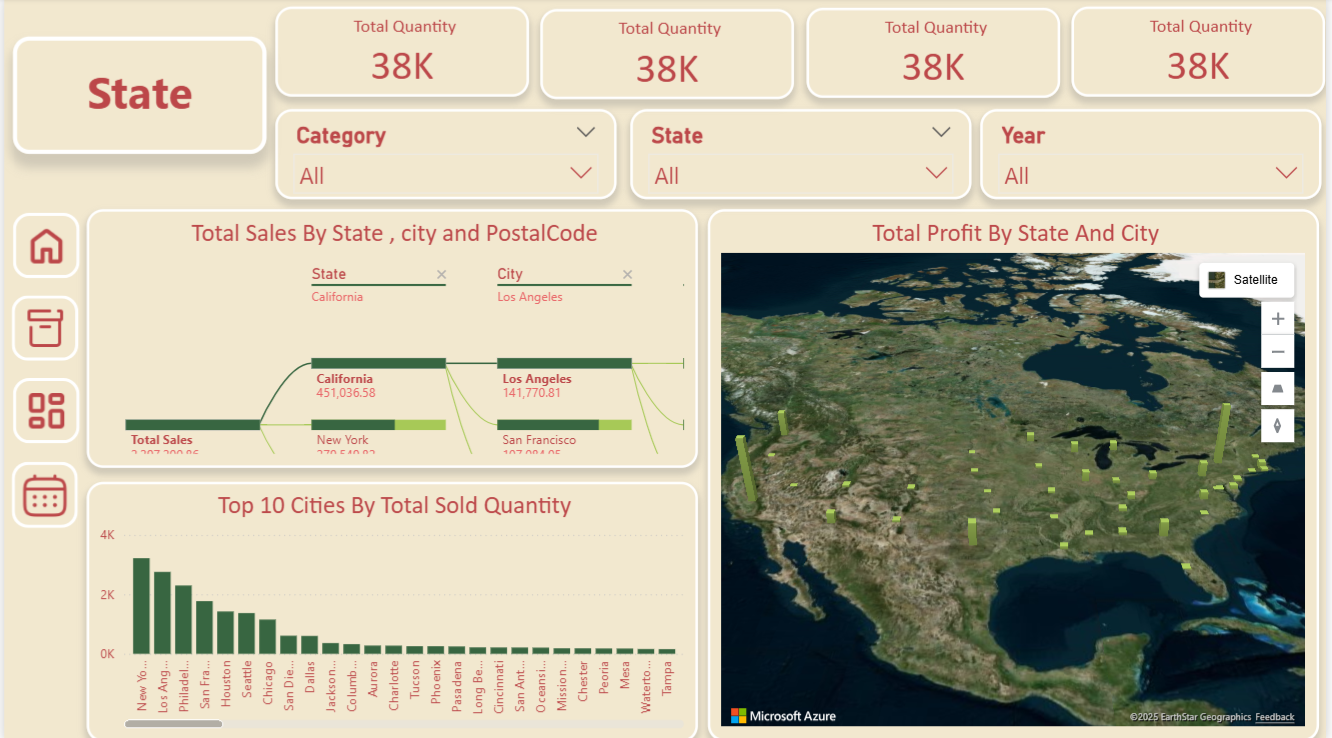

The dashboard page shown, as its layout file describes it:
{"tool":"powerbi","page":{"name":"State","canvas":[1280,720],"ordinal":2},"visuals":[{"type":"actionButton","box":[7.9,448.6,64,64],"z":0},{"type":"actionButton","box":[8.2,208,64.5,63.1],"z":1000},{"type":"actionButton","box":[6.9,288.2,64.5,63.1],"z":2000},{"type":"actionButton","box":[8.2,368.4,64.5,63.1],"z":3000},{"type":"textbox","box":[8.5,37.5,245.7,113.8],"z":4000},{"type":"card","title":"Total Quantity","fields":{"Values":["Daxmeasures.T_quantity"]},"box":[262.7,8.2,245.7,87.2],"z":5000},{"type":"card","title":"Total Quantity","fields":{"Values":["Daxmeasures.T_quantity"]},"box":[519.7,11.4,245.7,87.2],"z":6000},{"type":"card","title":"Total Quantity","fields":{"Values":["Daxmeasures.T_quantity"]},"box":[776.7,9.8,245.7,87.2],"z":7000},{"type":"card","title":"Total Quantity","fields":{"Values":["Daxmeasures.T_quantity"]},"box":[1033.8,8.2,245.7,87.2],"z":8000},{"type":"slicer","title":"Total Quantity","fields":{"Values":["ProductDim.Category"]},"box":[262.7,107.7,330,87.2],"z":9000},{"type":"slicer","title":"Total Quantity","fields":{"Values":["CustomerDim.State"]},"box":[605.9,107.7,330.5,87.2],"z":10000},{"type":"slicer","title":"Total Quantity","fields":{"Values":["Sales.Ship Date.Variation.Date Hierarchy.Year"]},"box":[945.4,107.7,330.5,87.2],"z":11000},{"type":"decompositionTreeVisual","title":"Total Sales By State , city and PostalCode","fields":{"ExplainBy":["CustomerDim.State","CustomerDim.City","CustomerDim.Postal Code"],"Analyze":["Daxmeasures.Total Sales"]},"box":[80,205,591.7,250],"z":12000},{"type":"azureMap","title":"Total Profit By State And City","fields":{"Size":["Daxmeasures.Total Profit"],"Category":["CustomerDim.State"]},"box":[681.7,205,591.7,515],"z":13000},{"type":"clusteredColumnChart","title":"Top 10 Cities By Total Sold Quantity","fields":{"Category":["CustomerDim.City"],"Y":["Daxmeasures.Total Quantity"]},"box":[80,468.3,591.7,251.7],"z":14000}]}

Visuals, with their boxes in screenshot pixels (x1, y1, x2, y2), scaled from the page's 1280x720 canvas onto the 1332x738 screenshot:
actionButton: bbox(8, 460, 75, 525)
actionButton: bbox(9, 213, 76, 278)
actionButton: bbox(7, 295, 74, 360)
actionButton: bbox(9, 378, 76, 442)
textbox: bbox(9, 38, 265, 155)
"Total Quantity" card: bbox(273, 8, 529, 98)
"Total Quantity" card: bbox(541, 12, 796, 101)
"Total Quantity" card: bbox(808, 10, 1064, 99)
"Total Quantity" card: bbox(1076, 8, 1331, 98)
"Total Quantity" slicer: bbox(273, 110, 617, 200)
"Total Quantity" slicer: bbox(631, 110, 974, 200)
"Total Quantity" slicer: bbox(984, 110, 1328, 200)
"Total Sales By State , city and PostalCode" decompositionTreeVisual: bbox(83, 210, 699, 466)
"Total Profit By State And City" azureMap: bbox(709, 210, 1325, 737)
"Top 10 Cities By Total Sold Quantity" clusteredColumnChart: bbox(83, 480, 699, 737)
